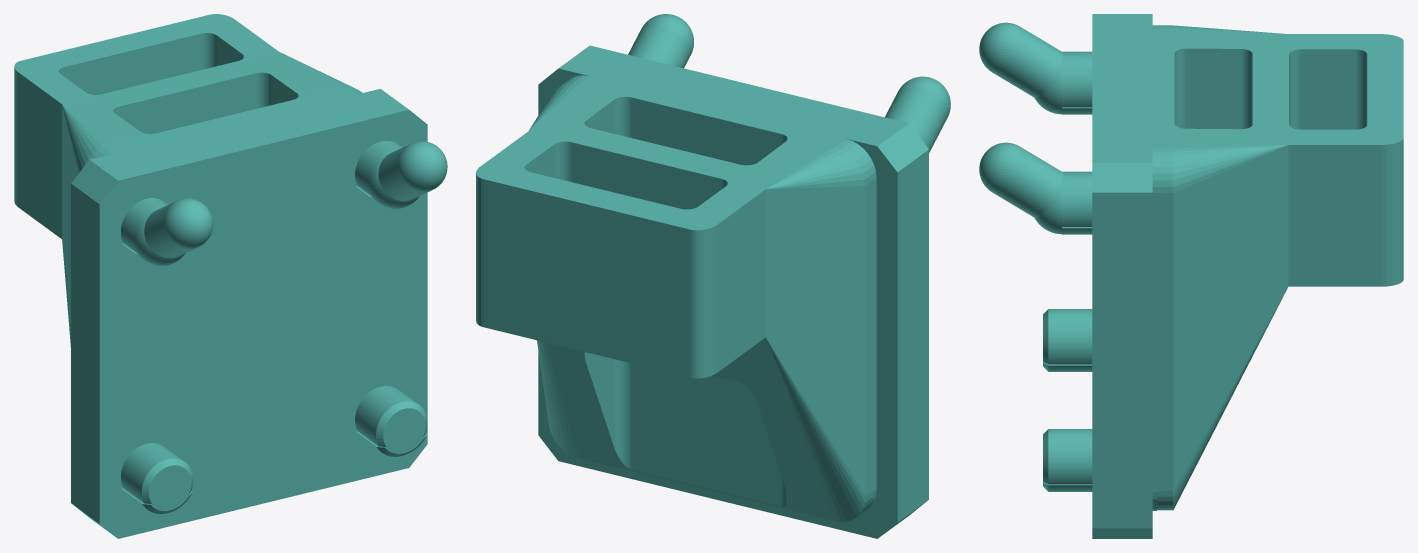
Rendered from part-pegstr-p11__v2__pegstr-p11-caliper-slot__installed__fit-9c7be3cc78.glb.
3 views of the same model, side by side, from view 1: azimuth 30°, elevation 25°; view 2: azimuth 150°, elevation 25°; view 3: azimuth 270°, elevation 25° (orthographic). The views are drawn at different scales.
Parts seen in each view (by area): view 1: Actual holder mesh; view 2: Actual holder mesh; view 3: Actual holder mesh.
Part boxes in pixels (x1,y1,x2,y2): Actual holder mesh: (14, 14, 447, 538); Actual holder mesh: (476, 14, 950, 538); Actual holder mesh: (979, 14, 1403, 538).
Size of the model in its own units: 0.0356 by 0.0374 by 0.038.
